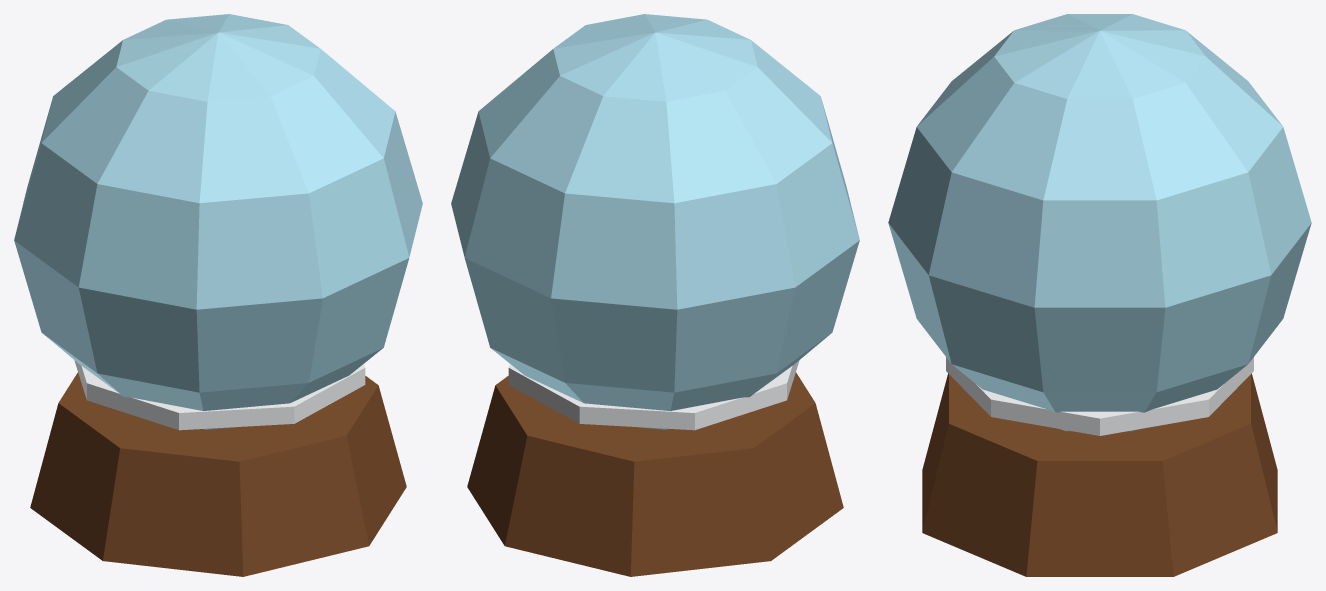
File: SnowGlobe.fbx
The picture shows the model from 3 angles, left to right: view 1: azimuth 30°, elevation 25°; view 2: azimuth 150°, elevation 25°; view 3: azimuth 270°, elevation 25°; orthographic projection.
Visible parts, largest first — view 1: SnowGlobe; view 2: SnowGlobe; view 3: SnowGlobe.
Boxes of the visible parts, left/top/right/bottom form: SnowGlobe: left=14, top=14, right=422, bottom=576; SnowGlobe: left=451, top=14, right=859, bottom=576; SnowGlobe: left=888, top=14, right=1311, bottom=576.
Size of the model in its own units: 2.09 by 2.7 by 2.2.
Materials: 1 (1 with a texture image).
